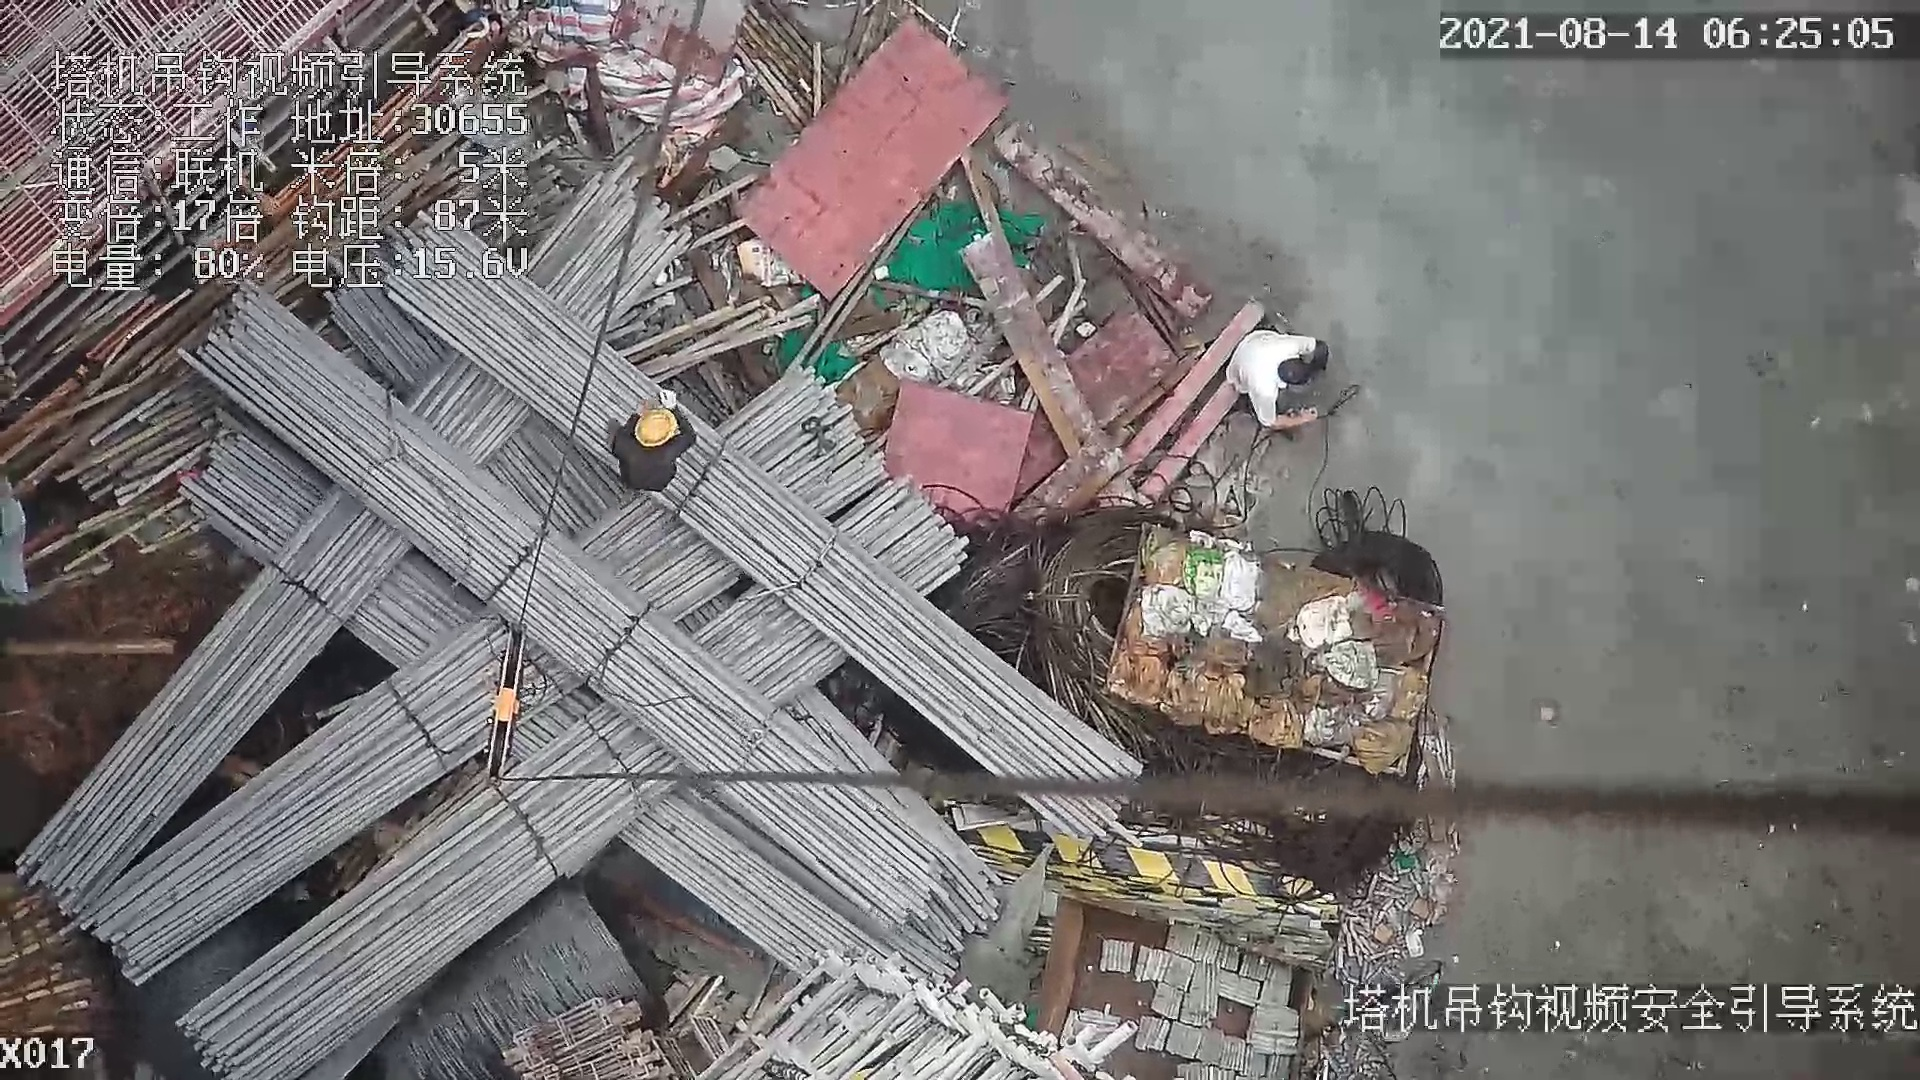helmet: (633, 406, 678, 448)
hook: (478, 618, 524, 794)
person: (613, 394, 723, 508), (1224, 326, 1331, 433)
